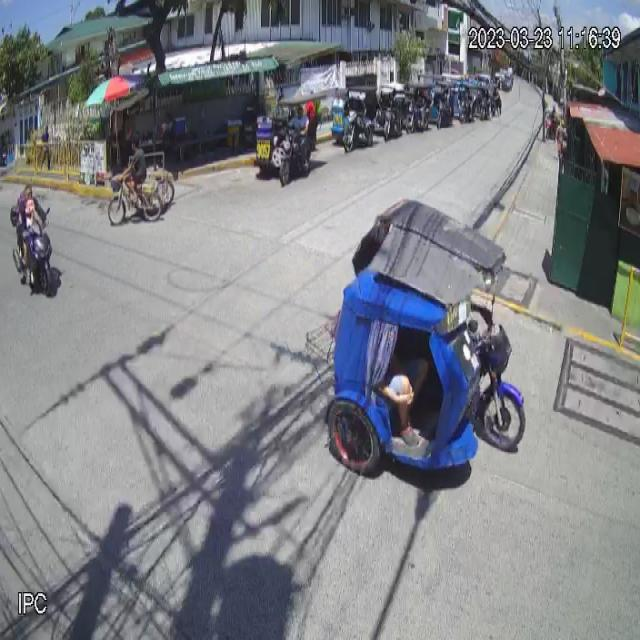Motorcycle: (9, 201, 53, 295)
Tricycle: (317, 199, 526, 474)
